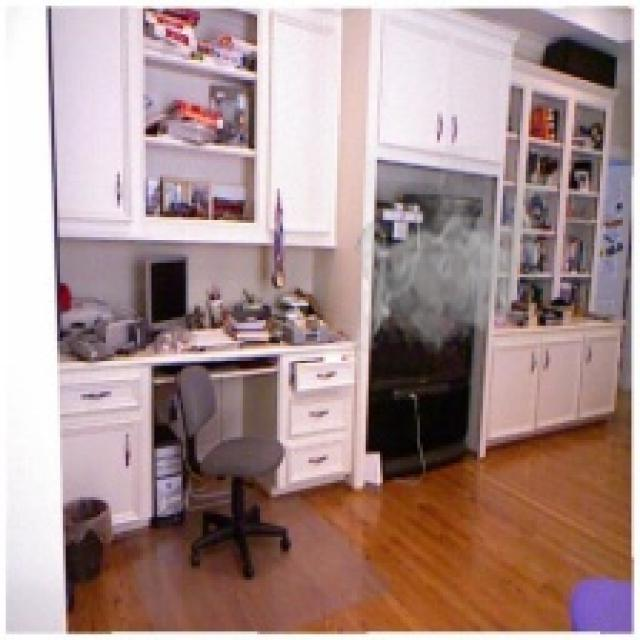smoke: (352, 146, 554, 357)
